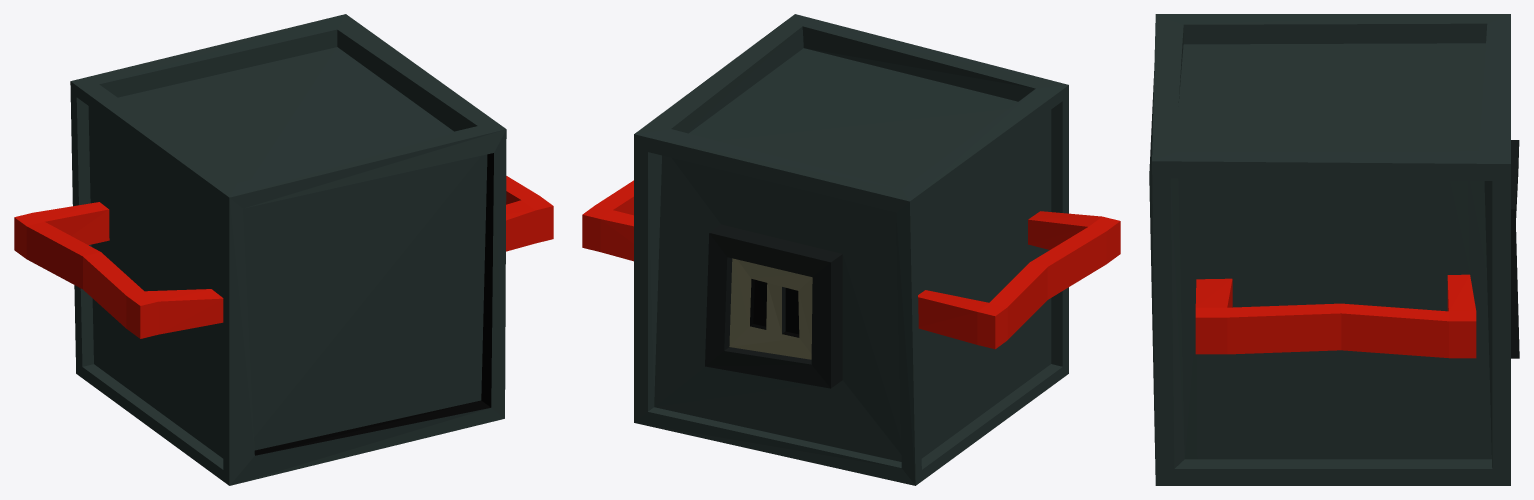
Rendered from msh_item_Crate.fbx.
3 renders of one model, left to right at view 1: azimuth 30°, elevation 25°; view 2: azimuth 150°, elevation 25°; view 3: azimuth 270°, elevation 25°, orthographic. The views are drawn at different scales.
Parts seen in each view (by area): view 1: pCube4; view 2: pCube4; view 3: pCube4.
Part boxes in pixels (x1=…): pCube4: x1=14, y1=14, x2=553, y2=485; pCube4: x1=582, y1=14, x2=1120, y2=485; pCube4: x1=1149, y1=14, x2=1519, y2=485.
Size of the model in its own units: 149 by 99.84 by 103.
